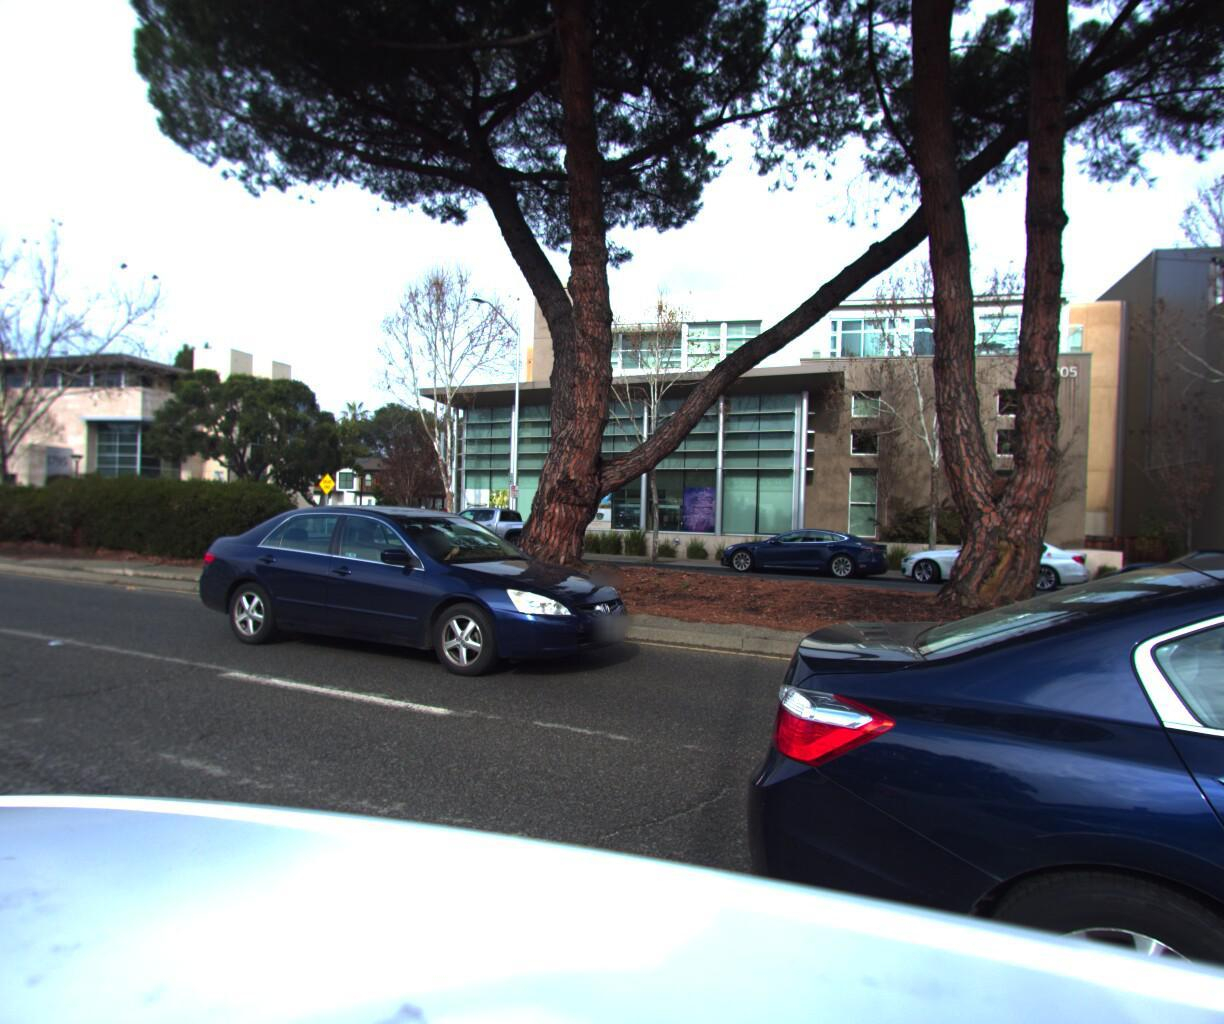car: (625, 521, 1224, 1024), (183, 500, 647, 690), (891, 526, 1093, 596), (703, 520, 895, 581), (409, 501, 577, 557), (1097, 539, 1224, 610)
